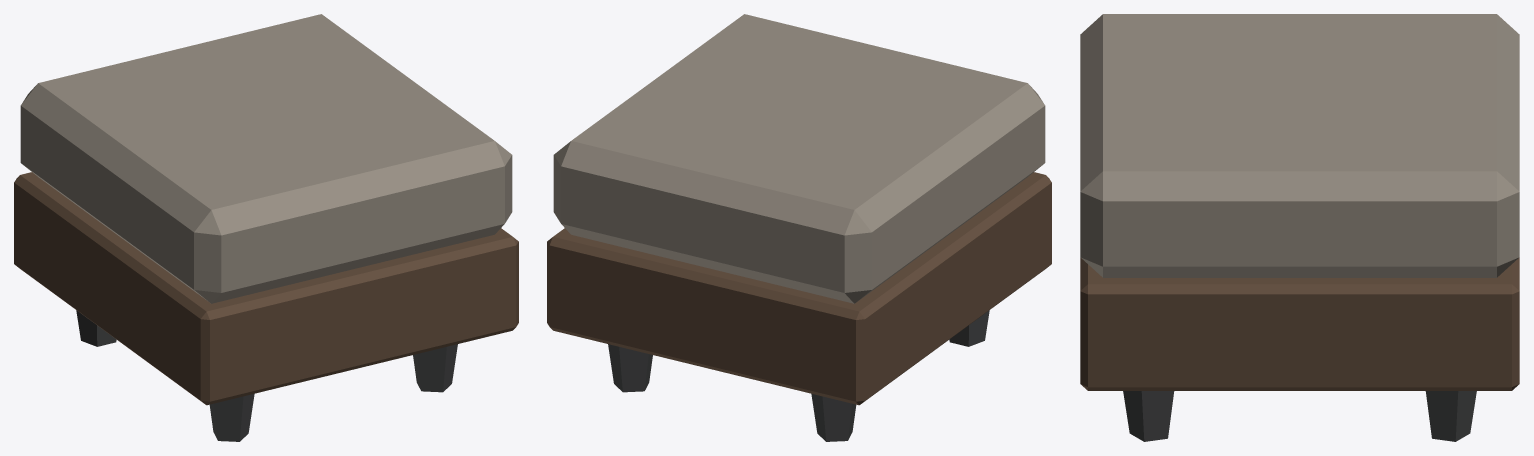
Rendered from SM_Props_Interior_House_Room_Sofa_01_Footstool.fbx.
3 views of the same model, side by side, from view 1: azimuth 30°, elevation 25°; view 2: azimuth 150°, elevation 25°; view 3: azimuth 270°, elevation 25° (orthographic). The views are drawn at different scales.
Parts seen in each view (by area): view 1: SM_Props_Interior_House_Room_Sofa_01_Footstool; view 2: SM_Props_Interior_House_Room_Sofa_01_Footstool; view 3: SM_Props_Interior_House_Room_Sofa_01_Footstool.
Boxes of the visible parts, <box> form: SM_Props_Interior_House_Room_Sofa_01_Footstool: <box>14,14,518,441</box>; SM_Props_Interior_House_Room_Sofa_01_Footstool: <box>547,14,1051,441</box>; SM_Props_Interior_House_Room_Sofa_01_Footstool: <box>1080,14,1519,441</box>.
Bounding box in the file's own units: 53.2 × 40 × 56.
